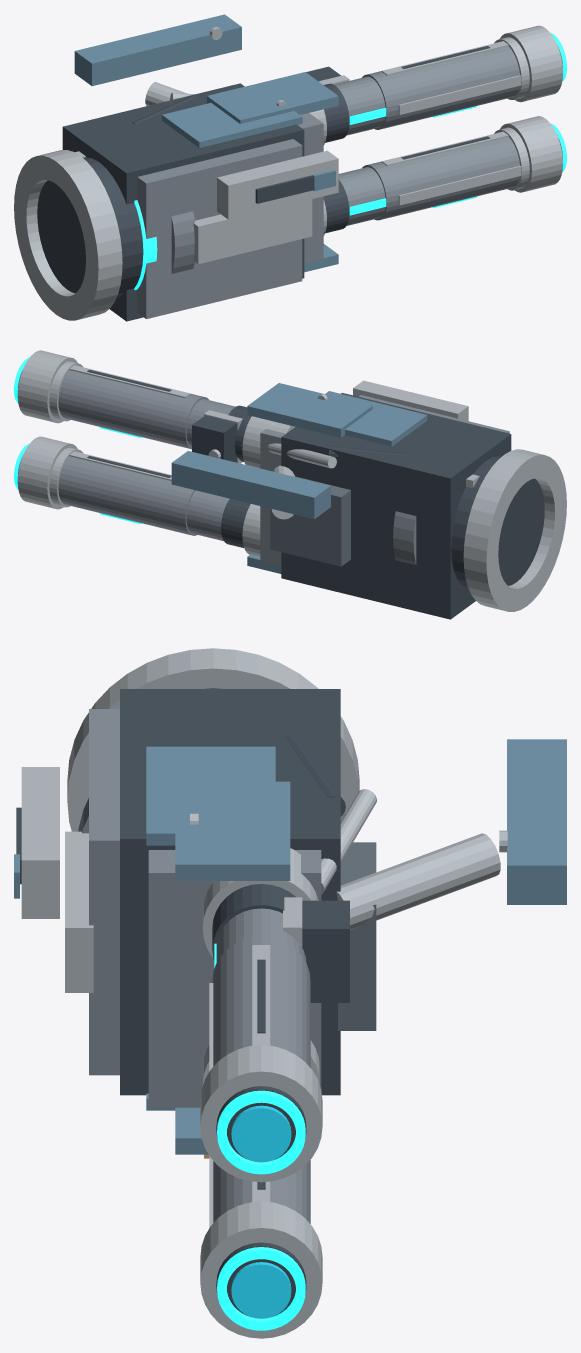
3 renders of one model, top to bottom at view 1: azimuth 30°, elevation 25°; view 2: azimuth 150°, elevation 25°; view 3: azimuth 270°, elevation 25°, orthographic. The views are drawn at different scales.
Parts seen in each view (by area): view 1: Reactor upper shell, Rear outer reactor rim, Reactor central chassis, Rear reactor core, Base side armor, Barrel 1 main shroud, Barrel 2 main shroud, Reactor top spine, Top swept armor fin, Central far blue armor, Blue far armor plate, Barrel 2 muzzle housing (+18 smaller); view 2: Reactor central chassis, Rear outer reactor rim, Barrel 2 main shroud, Barrel 1 main shroud, Base side armor, Rear reactor core, Compact ship mounting connector, Central far blue armor, Blue far armor plate, Barrel 2 muzzle housing, Barrel 1 muzzle housing, Top swept armor fin (+15 smaller); view 3: Reactor central chassis, Reactor front bridge, Central far blue armor, Reactor upper shell, Base side armor, Rear outer reactor rim, Barrel 2 main shroud, Barrel 1 muzzle housing, Barrel 2 muzzle housing, Angled support strut, Blue far armor plate, Top swept armor fin (+16 smaller).
Boxes of the visible parts, x1,y1,x2,y2 form: Reactor upper shell: [137, 139, 302, 318]; Rear outer reactor rim: [14, 150, 122, 320]; Reactor central chassis: [62, 83, 304, 321]; Rear reactor core: [37, 157, 143, 296]; Base side armor: [74, 14, 241, 86]; Barrel 1 main shroud: [362, 137, 519, 220]; Barrel 2 main shroud: [362, 46, 519, 129]; Reactor top spine: [193, 199, 312, 264]; Top swept armor fin: [217, 150, 338, 219]; Central far blue armor: [207, 72, 338, 123]; Blue far armor plate: [162, 103, 302, 147]; Barrel 2 muzzle housing: [500, 25, 562, 102]; Reactor central chassis: [281, 393, 511, 619]; Rear outer reactor rim: [463, 449, 566, 611]; Barrel 2 main shroud: [58, 370, 208, 449]; Barrel 1 main shroud: [58, 456, 196, 535]; Base side armor: [171, 451, 330, 519]; Rear reactor core: [451, 456, 544, 589]; Compact ship mounting connector: [270, 476, 350, 566]; Central far blue armor: [247, 383, 372, 437]; Blue far armor plate: [325, 391, 427, 446]; Barrel 2 muzzle housing: [17, 350, 77, 423]; Barrel 1 muzzle housing: [17, 436, 77, 509]; Top swept armor fin: [353, 380, 468, 420]; Reactor central chassis: [120, 689, 340, 1095]; Reactor front bridge: [148, 850, 321, 1107]; Central far blue armor: [175, 781, 290, 880]; Reactor upper shell: [89, 709, 119, 1075]; Base side armor: [507, 739, 566, 904]; Rear outer reactor rim: [67, 648, 359, 831]; Barrel 2 main shroud: [212, 936, 310, 1067]; Barrel 1 muzzle housing: [200, 1201, 322, 1338]; Barrel 2 muzzle housing: [200, 1045, 322, 1182]; Angled support strut: [336, 833, 500, 929]; Blue far armor plate: [146, 746, 275, 845]; Top swept armor fin: [21, 767, 59, 918].
Size of the model in its own units: 4.27 by 1.4 by 2.31.
